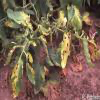Tomato Early blight leaf: (7, 8, 36, 33), (12, 56, 25, 94), (24, 52, 37, 83), (62, 30, 71, 67), (40, 36, 53, 61)
